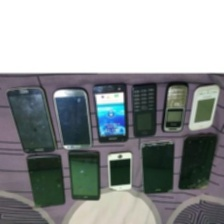phone: (3, 81, 59, 158), (52, 85, 94, 153), (176, 134, 222, 193), (24, 148, 67, 211), (92, 81, 131, 146), (136, 137, 176, 198), (63, 149, 105, 204), (183, 82, 222, 133), (158, 80, 192, 137), (128, 81, 159, 140), (105, 149, 136, 193)
